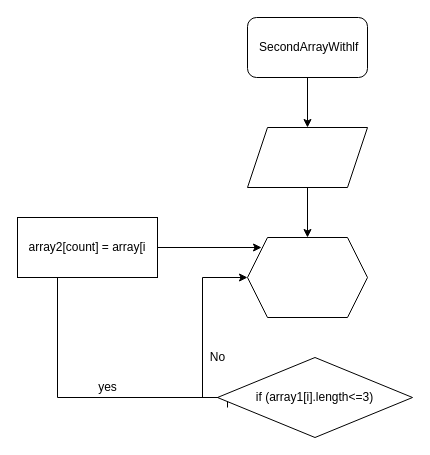
The diagram is 430 pixels wide and 455 high, and some of its shapes have lost their labels. Each missing label, with the centre of its shape:
for (int i =0; I<array1.length; i++): pixel 307 277
string[] array1 string array2 int count= 0: pixel 307 157
